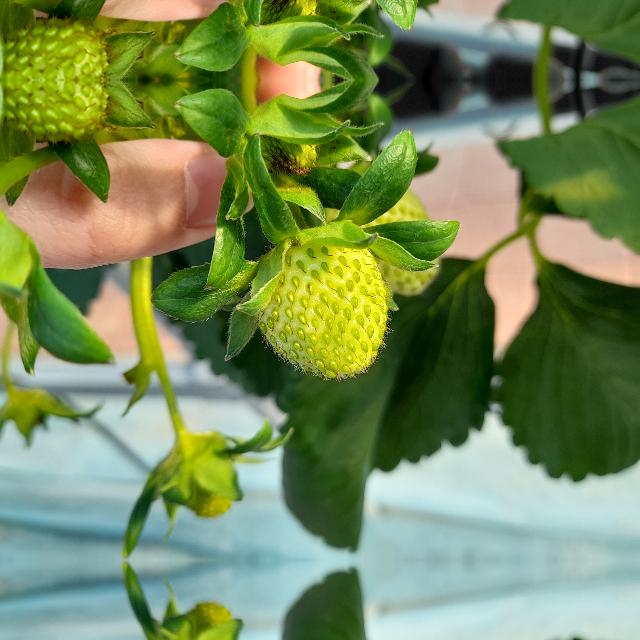Health_25: (256, 231, 388, 379)
